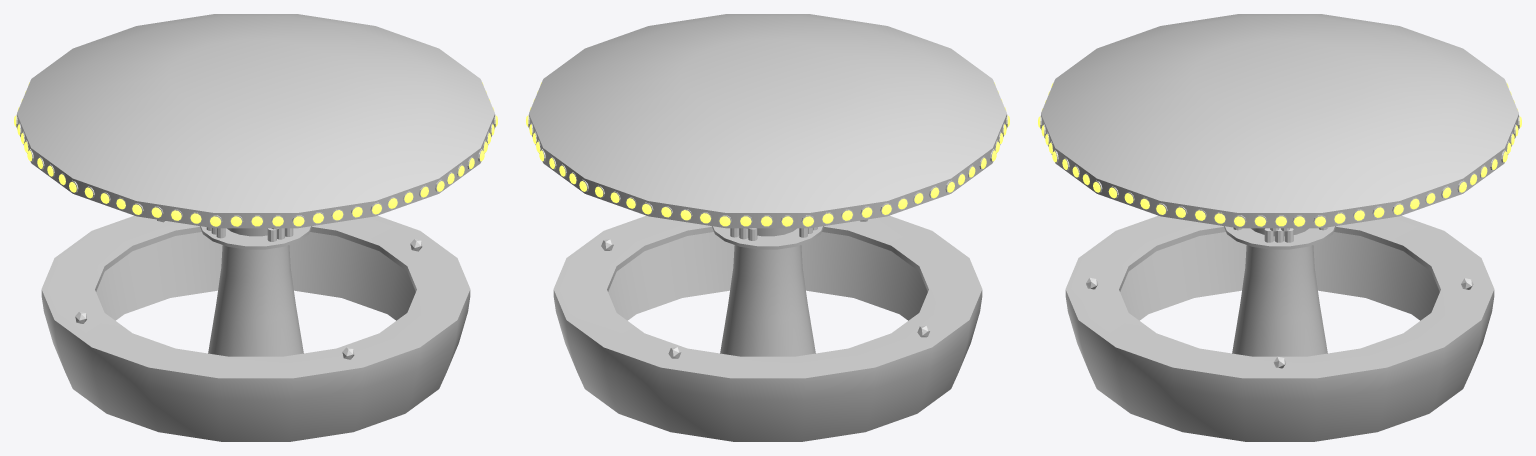
Rendered from StallCanThrow 1.fbx.
The picture shows the model from 3 angles, left to right: view 1: azimuth 30°, elevation 25°; view 2: azimuth 150°, elevation 25°; view 3: azimuth 270°, elevation 25°; orthographic projection.
Parts seen in each view (by area): view 1: CanThrowGame; view 2: CanThrowGame; view 3: CanThrowGame.
Part boxes in pixels (bbox=[...]): CanThrowGame: bbox=[14, 14, 497, 441]; CanThrowGame: bbox=[526, 14, 1009, 441]; CanThrowGame: bbox=[1038, 14, 1521, 441].
Bounding box in the file's own units: 1745 × 1145 × 1769.
